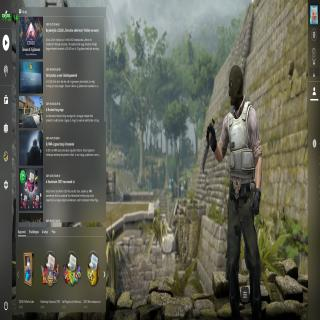T-Body: (218, 64, 264, 320)
T-Head: (228, 65, 244, 107)
